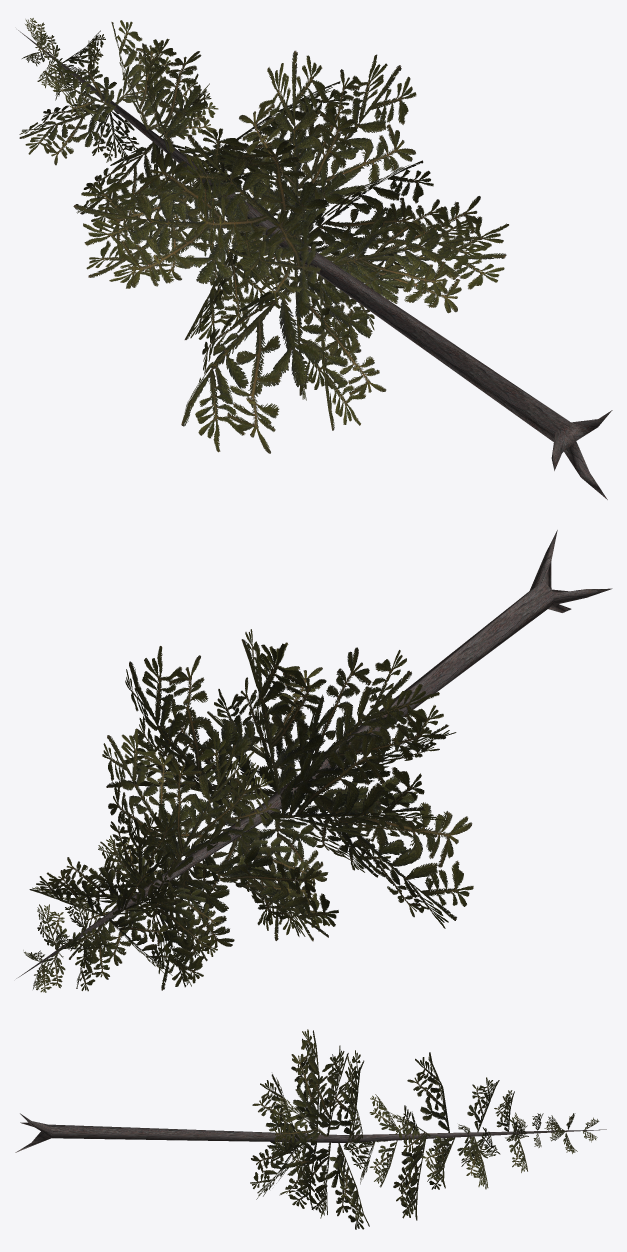
The model's file is Conif_06.fbx.
3 views of the same model, one above another, from view 1: azimuth 30°, elevation 25°; view 2: azimuth 150°, elevation 25°; view 3: azimuth 270°, elevation 25° (orthographic). The views are drawn at different scales.
Visible parts, largest first — view 1: conifer_06; view 2: conifer_06; view 3: conifer_06.
Boxes of the visible parts, x1,y1,x2,y2 form: conifer_06: [18, 18, 612, 499]; conifer_06: [16, 530, 612, 992]; conifer_06: [15, 1029, 606, 1229].
Bounding box in the file's own units: 5.99 × 4.77 × 15.17.
